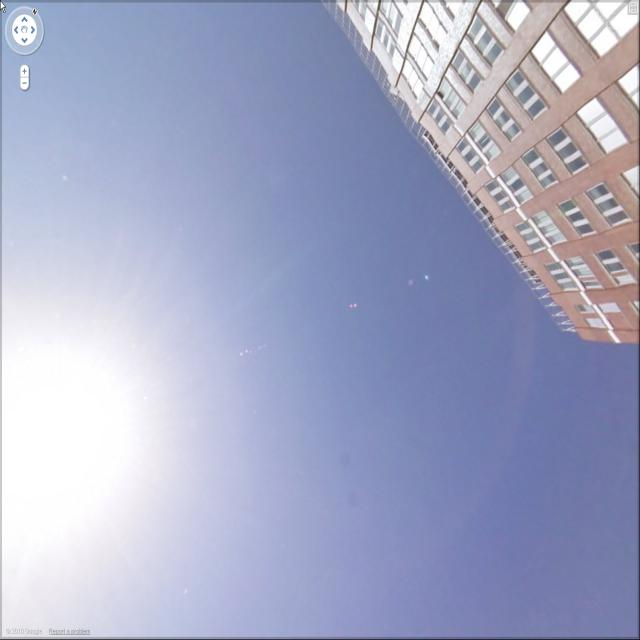b_1: (322, 1, 640, 347)
